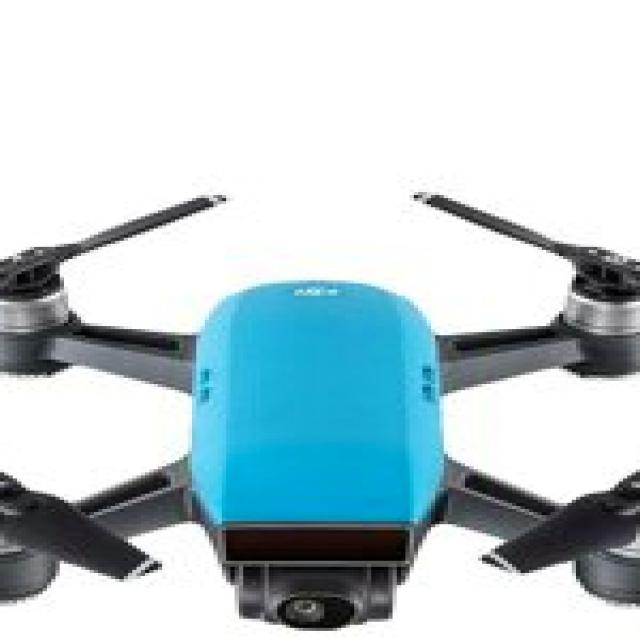drone: (0, 146, 640, 622)
